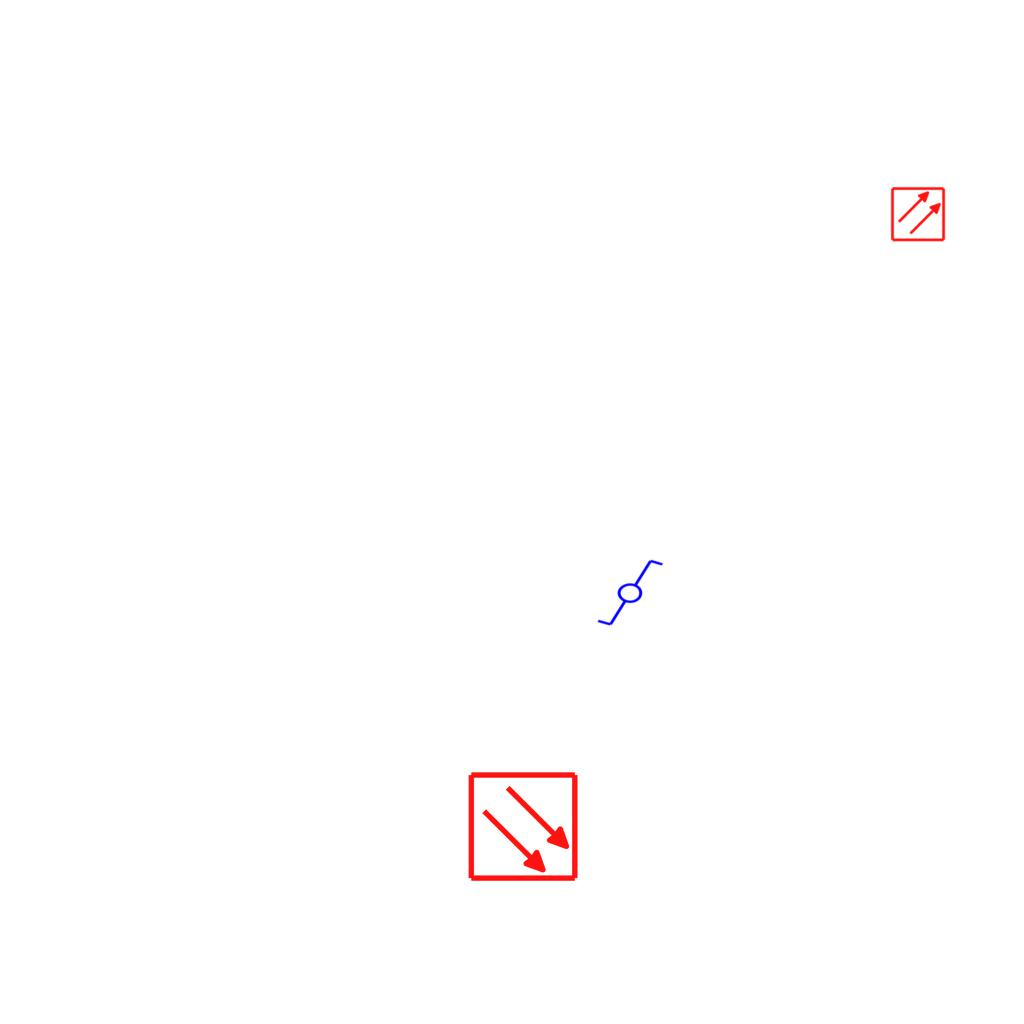RMO_Rauchmelder_optischer: (467, 770, 580, 883), (890, 186, 946, 242)
Wechselschalter: (587, 556, 665, 628)
